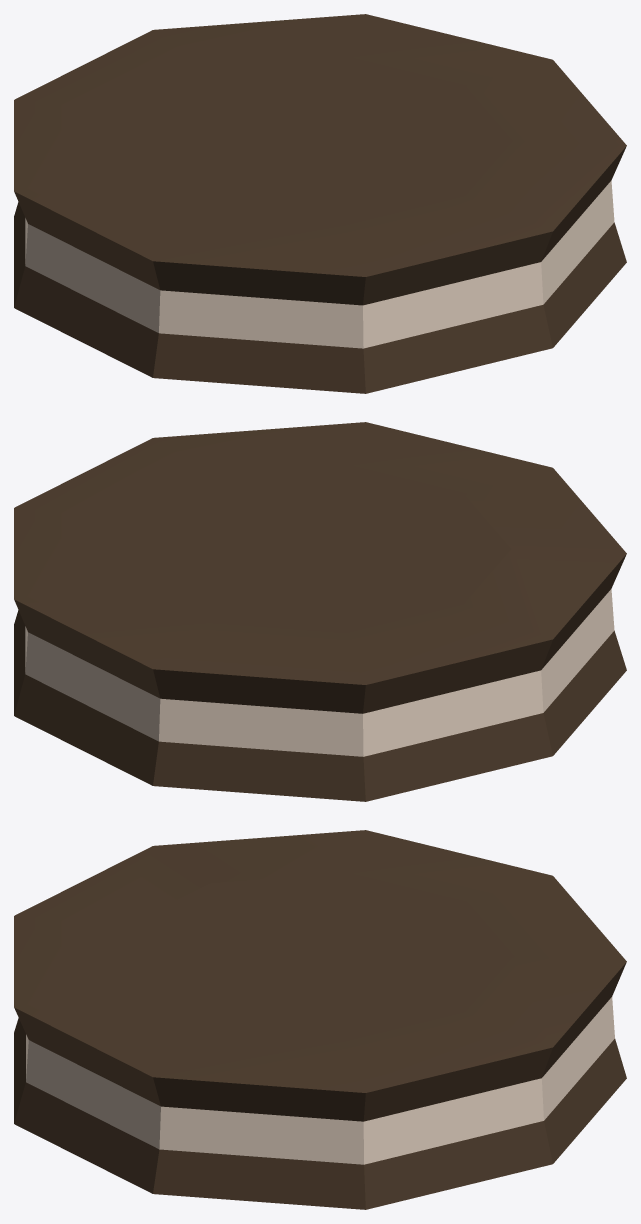
File: food_cookie-oreo.fbx
The picture shows the model from 3 angles, top to bottom: view 1: azimuth 30°, elevation 25°; view 2: azimuth 150°, elevation 25°; view 3: azimuth 270°, elevation 25°; orthographic projection.
Visible parts, largest first — view 1: food_cookie_oreo; view 2: food_cookie_oreo; view 3: food_cookie_oreo.
Part boxes in pixels (x1=…): food_cookie_oreo: x1=14, y1=14, x2=626, y2=393; food_cookie_oreo: x1=14, y1=422, x2=626, y2=801; food_cookie_oreo: x1=14, y1=830, x2=626, y2=1209.
Bounding box in the file's own units: 200 × 45.97 × 197.
